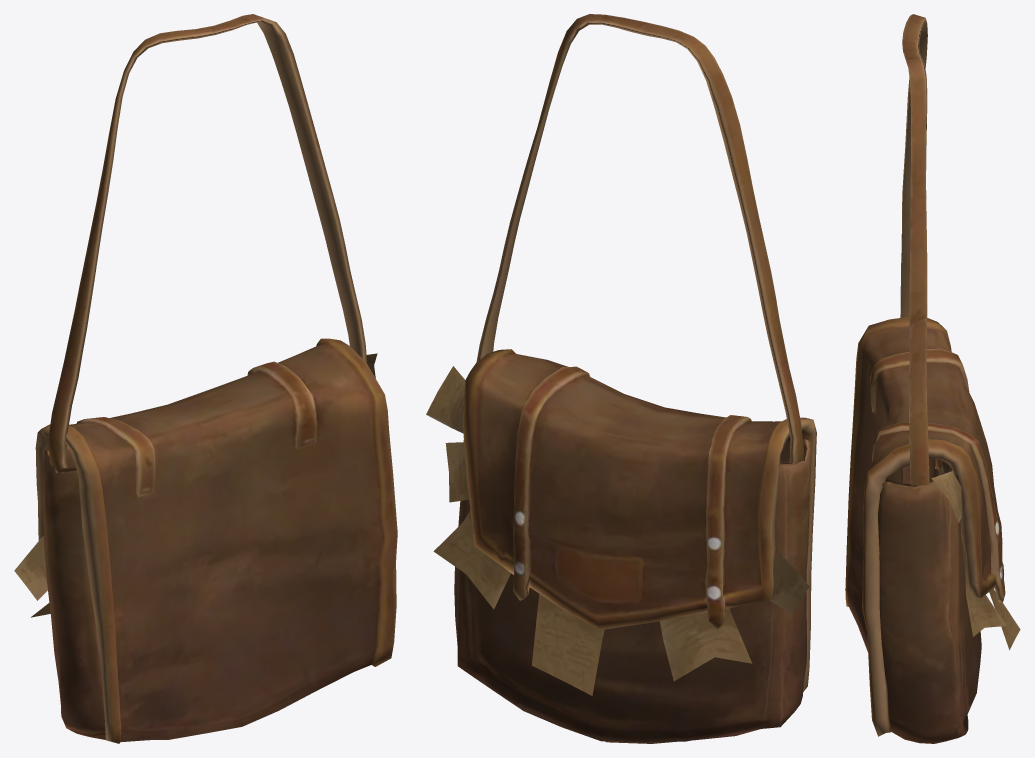
3 renders of one model, left to right at view 1: azimuth 30°, elevation 25°; view 2: azimuth 150°, elevation 25°; view 3: azimuth 270°, elevation 25°, orthographic. The views are drawn at different scales.
Parts seen in each view (by area): view 1: SM_Postie_Pete_Bag_01_LOD0; view 2: SM_Postie_Pete_Bag_01_LOD0; view 3: SM_Postie_Pete_Bag_01_LOD0.
Boxes of the visible parts, box(x1,y1,x2,y2) form: SM_Postie_Pete_Bag_01_LOD0: box(14, 14, 397, 743); SM_Postie_Pete_Bag_01_LOD0: box(426, 14, 816, 743); SM_Postie_Pete_Bag_01_LOD0: box(845, 14, 1020, 743).
Size of the model in its own units: 0.2912 by 0.5313 by 0.1253.
1 material, 1 textured.
